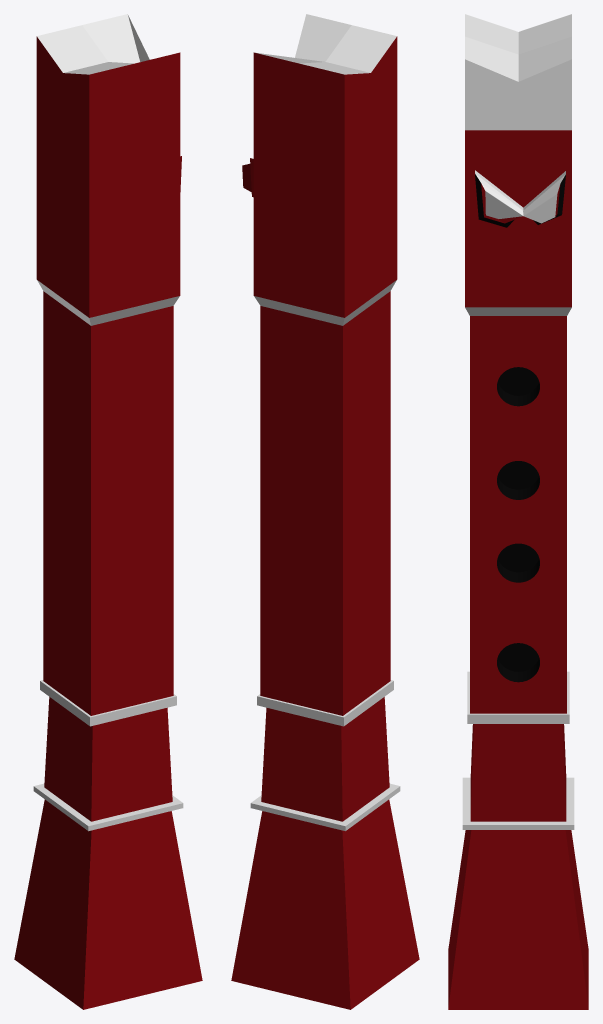
The model's file is Shakuhachi.glb.
The picture shows the model from 3 angles, left to right: view 1: azimuth 30°, elevation 25°; view 2: azimuth 150°, elevation 25°; view 3: azimuth 270°, elevation 25°; orthographic projection.
Parts seen in each view (by area): view 1: Model; view 2: Model; view 3: Model.
Boxes of the visible parts, x1,y1,x2,y2 form: Model: [14, 14, 202, 1009]; Model: [231, 14, 419, 1009]; Model: [448, 14, 588, 1009].
Size of the model in its own units: 2.19 by 15.67 by 2.12.
